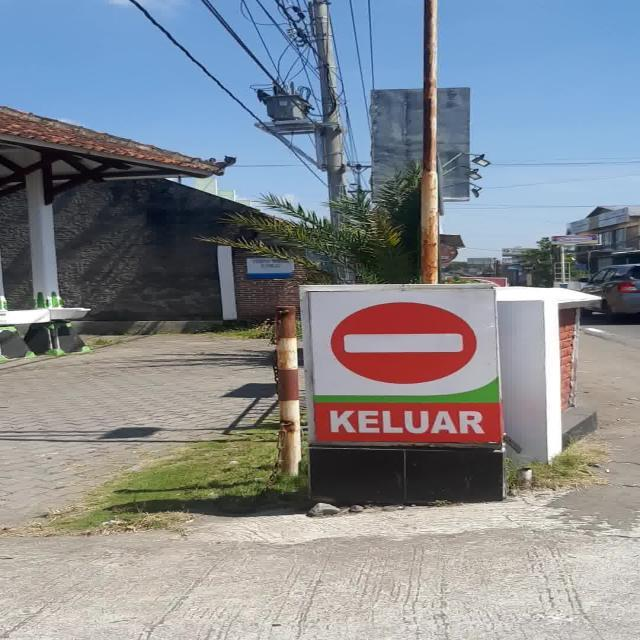Dilarang Masuk: (332, 302, 478, 384)
